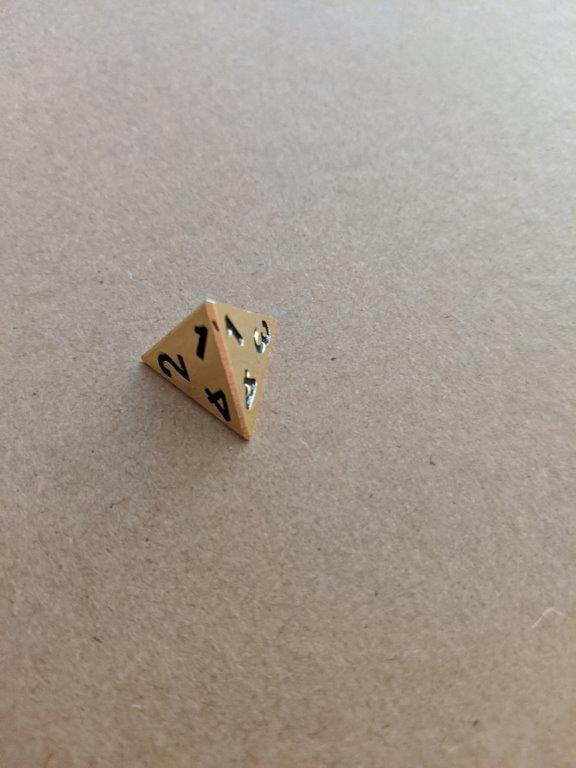d4-1: (134, 299, 281, 447)
